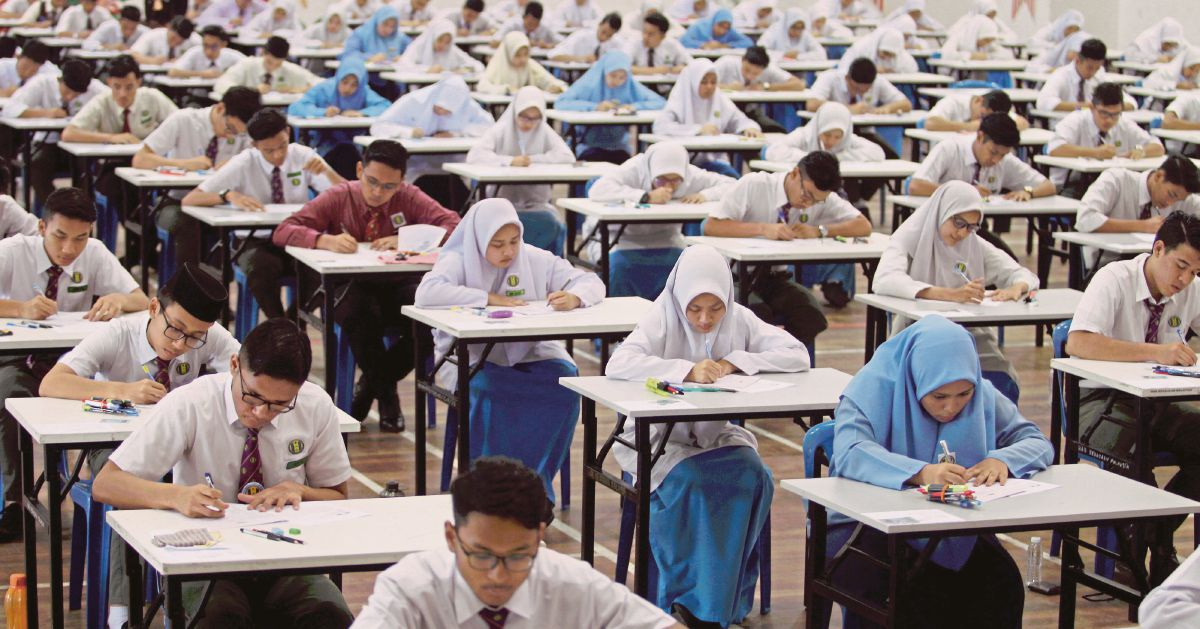chit: (295, 151, 333, 186)
student: (104, 313, 383, 524), (354, 461, 678, 629), (830, 312, 1062, 504), (408, 185, 615, 341), (624, 241, 810, 393), (63, 260, 249, 406), (1069, 196, 1196, 387), (297, 117, 454, 271), (1, 195, 136, 346), (863, 194, 1020, 313), (698, 165, 878, 254), (465, 91, 572, 183), (658, 57, 739, 148)
studentcopying: (188, 96, 336, 221)
studentsleep: (584, 150, 738, 217)
